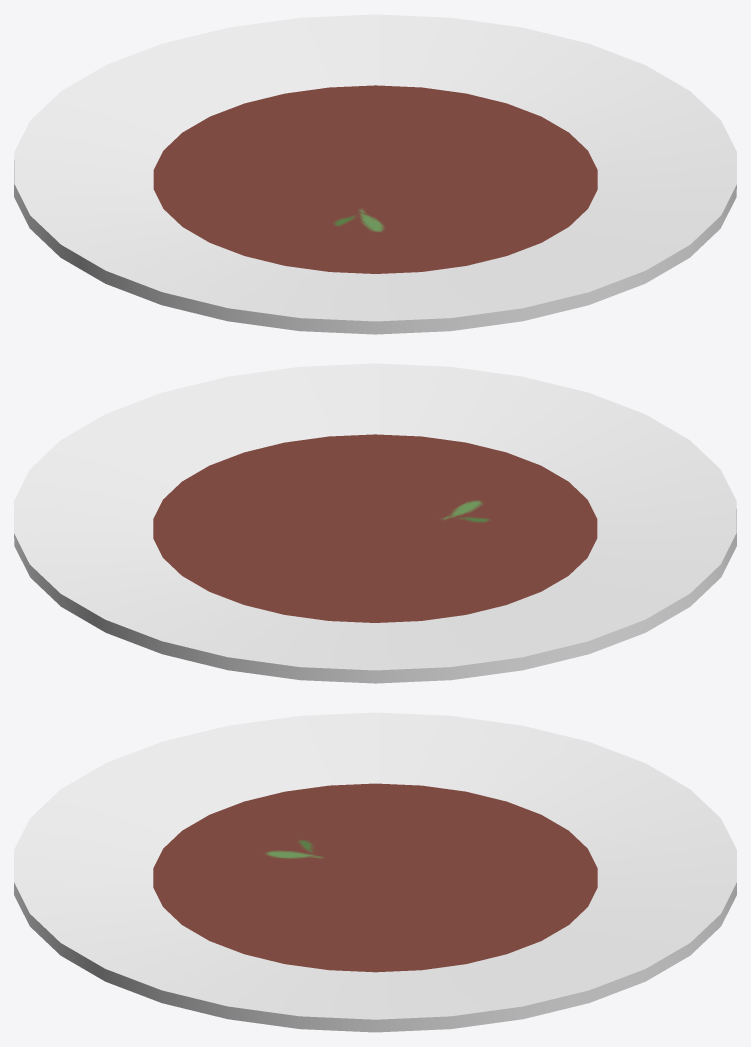
Rendered from FilledPlate.FBX.
The picture shows the model from 3 angles, top to bottom: view 1: azimuth 30°, elevation 25°; view 2: azimuth 150°, elevation 25°; view 3: azimuth 270°, elevation 25°; orthographic projection.
Parts seen in each view (by area): view 1: Plate_dirty001; view 2: Plate_dirty001; view 3: Plate_dirty001.
Boxes of the visible parts, <box> form: Plate_dirty001: <box>14,14,736,334</box>; Plate_dirty001: <box>14,363,736,683</box>; Plate_dirty001: <box>14,712,736,1032</box>.
Size of the model in its own units: 26.73 by 1.77 by 26.57.
